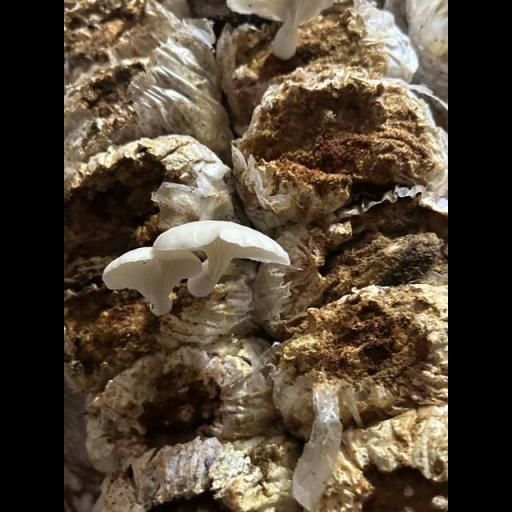White Oyster Mushroom: (100, 219, 281, 309)
